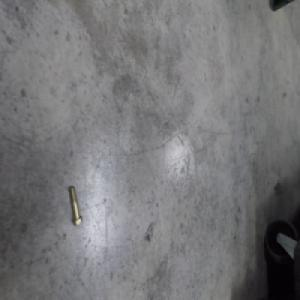Bolt: (68, 184, 83, 227)
